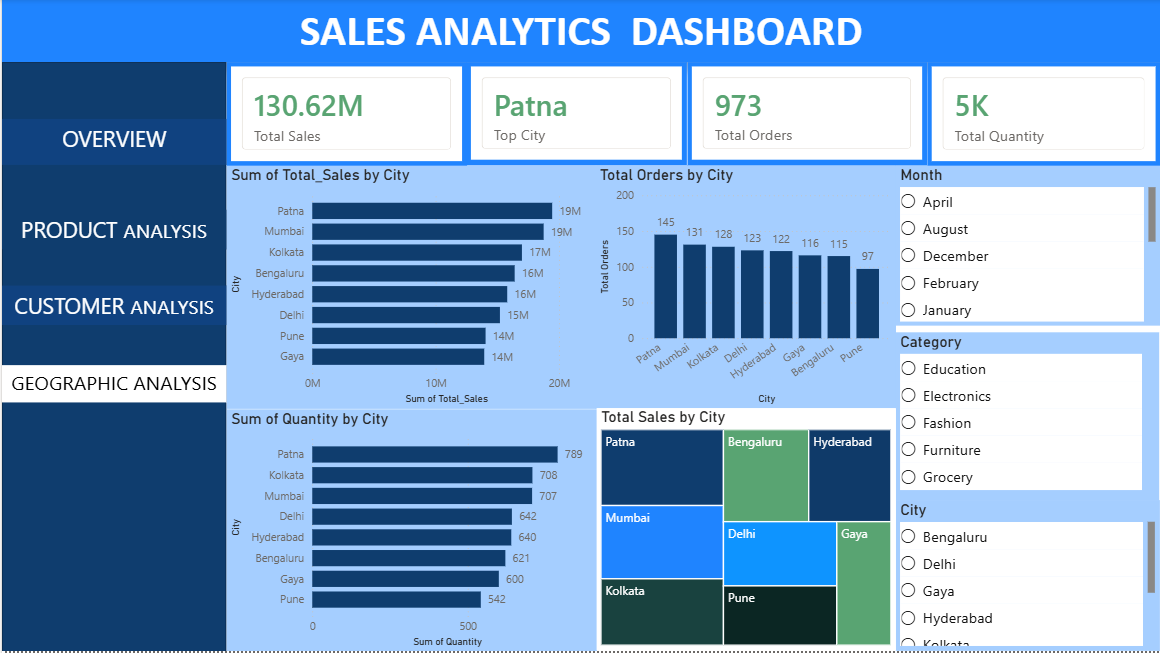

The page's visual inventory and layout, read from the dashboard file:
{"tool":"powerbi","page":{"name":"GEOGRAPHIC ANALYSIS","canvas":[1280,720],"ordinal":3},"visuals":[{"type":"textbox","box":[0,0,1279.4,69.7],"z":0},{"type":"shape","box":[0,69.3,247.6,651.2],"z":1000},{"type":"textbox","box":[0,132.3,248,50.6],"z":2000},{"type":"textbox","box":[0,232.7,247.6,43.3],"z":3000},{"type":"textbox","box":[0,316.9,247.6,43.3],"z":4000},{"type":"textbox","box":[0,404.6,248,40.9],"z":5000},{"type":"cardVisual","fields":{"Data":["sales_data_cleaned.Total Sales"]},"box":[248,69.1,265.5,114.8],"z":6000},{"type":"cardVisual","fields":{"Data":["sales_data_cleaned.Top City"]},"box":[513.6,69.1,243.2,113.8],"z":7000},{"type":"cardVisual","fields":{"Data":["sales_data_cleaned.Total Quantity"]},"box":[1021.3,69.1,257.8,114.8],"z":8000},{"type":"clusteredColumnChart","fields":{"Category":["sales_data_cleaned.City"],"Y":["sales_data_cleaned.Total Orders"]},"box":[655.6,183.8,331.7,268.4],"z":9000},{"type":"barChart","fields":{"Y":["Sum(sales_data_cleaned.Quantity)"],"Category":["sales_data_cleaned.City"]},"box":[248,452.3,408.5,267.5],"z":10000},{"type":"listSlicer","fields":{"Values":["sales_data_cleaned.Month"]},"box":[987.2,183.8,292.8,177],"z":11000},{"type":"listSlicer","fields":{"Values":["sales_data_cleaned.Category"]},"box":[987.2,367.7,290.8,185.8],"z":12000},{"type":"barChart","fields":{"Y":["Sum(sales_data_cleaned.Total_Sales)"],"Category":["sales_data_cleaned.City"]},"box":[248,183.8,408.5,268.4],"z":13000},{"type":"cardVisual","fields":{"Data":["sales_data_cleaned.Total Orders"]},"box":[756.7,69.1,264.6,113.8],"z":14000},{"type":"listSlicer","fields":{"Values":["sales_data_cleaned.City"]},"box":[987.2,553.4,291.8,166.3],"z":15000},{"type":"treemap","fields":{"Group":["sales_data_cleaned.City"],"Values":["sales_data_cleaned.Total Sales"]},"box":[657,452,330,267],"z":16000},{"type":"shape","box":[0,318.1,248,43.8],"z":16001},{"type":"shape","box":[0,228.6,248,43.8],"z":16002},{"type":"shape","box":[0,135.2,248,43.8],"z":16003}]}

Visuals, with their boxes in screenshot pixels (x1, y1, x2, y2), scaled from the page's 1280x720 canvas onto the 1160x653 screenshot:
textbox: 0,0,1159,63
shape: 0,63,224,652
textbox: 0,120,225,166
textbox: 0,211,224,250
textbox: 0,287,224,327
textbox: 0,367,225,404
cardVisual - sales_data_cleaned.Total Sales: 225,63,465,167
cardVisual - sales_data_cleaned.Top City: 465,63,686,166
cardVisual - sales_data_cleaned.Total Quantity: 926,63,1159,167
clusteredColumnChart - sales_data_cleaned.City x sales_data_cleaned.Total Orders: 594,167,895,410
barChart - Sum(sales_data_cleaned.Quantity) x sales_data_cleaned.City: 225,410,595,652
listSlicer - sales_data_cleaned.Month: 895,167,1159,327
listSlicer - sales_data_cleaned.Category: 895,333,1158,502
barChart - Sum(sales_data_cleaned.Total_Sales) x sales_data_cleaned.City: 225,167,595,410
cardVisual - sales_data_cleaned.Total Orders: 686,63,926,166
listSlicer - sales_data_cleaned.City: 895,502,1159,652
treemap - sales_data_cleaned.City x sales_data_cleaned.Total Sales: 595,410,894,652
shape: 0,288,225,328
shape: 0,207,225,247
shape: 0,123,225,162
